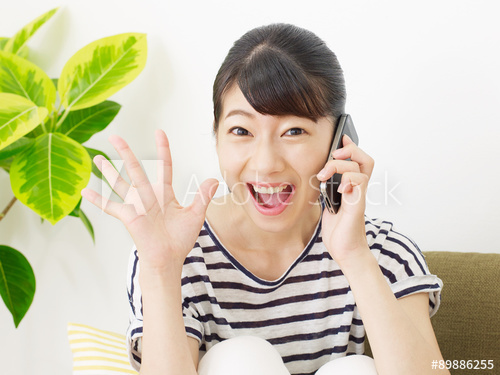phone: (314, 111, 373, 217)
talk: (219, 108, 378, 252)
